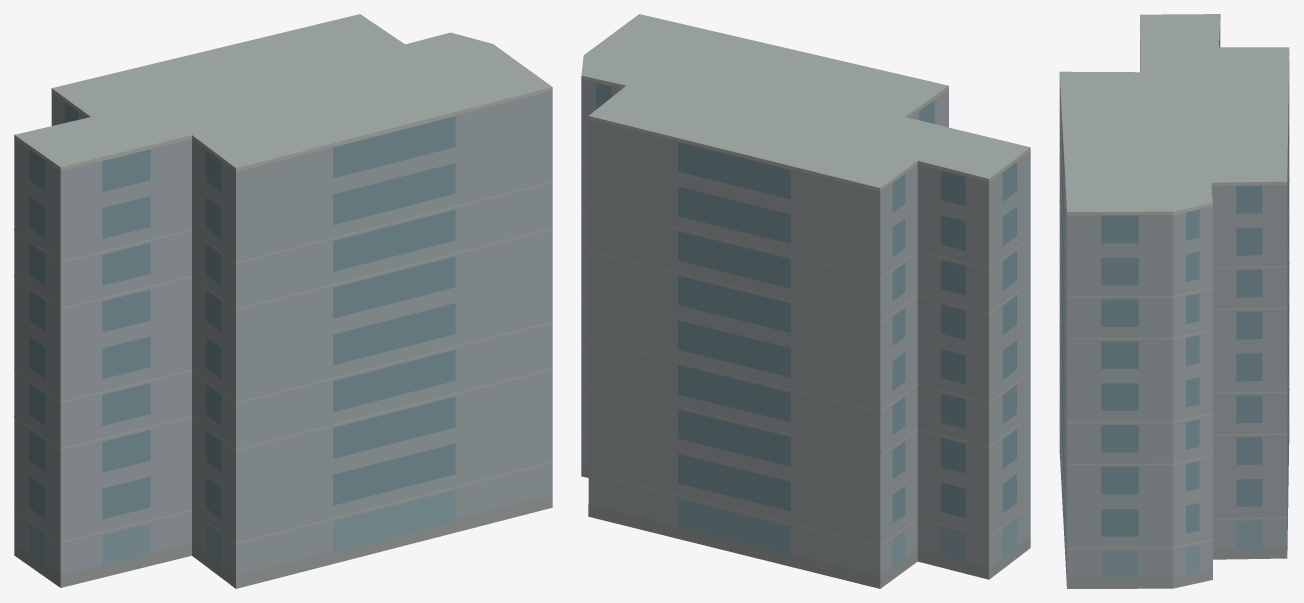
Rendered from survey-upis-32768135.glb.
The picture shows the model from 3 angles, left to right: view 1: azimuth 30°, elevation 25°; view 2: azimuth 150°, elevation 25°; view 3: azimuth 270°, elevation 25°; orthographic projection. The views are drawn at different scales.
Parts seen in each view (by area): view 1: survey-upis-32768135.tmp; view 2: survey-upis-32768135.tmp; view 3: survey-upis-32768135.tmp.
Part boxes in pixels (x1,y1,x2,y2): survey-upis-32768135.tmp: (14,14,552,588); survey-upis-32768135.tmp: (581,14,1030,588); survey-upis-32768135.tmp: (1059,14,1289,588).
Size of the model in its own units: 31.23 by 27.7 by 15.33.
